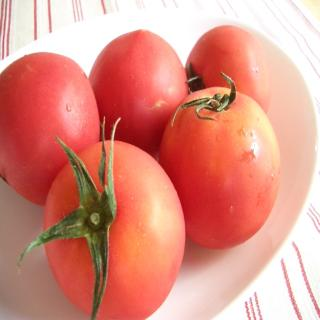tomato: (16, 114, 185, 319), (158, 72, 279, 250), (0, 49, 106, 205), (87, 26, 189, 155), (186, 23, 270, 114)
